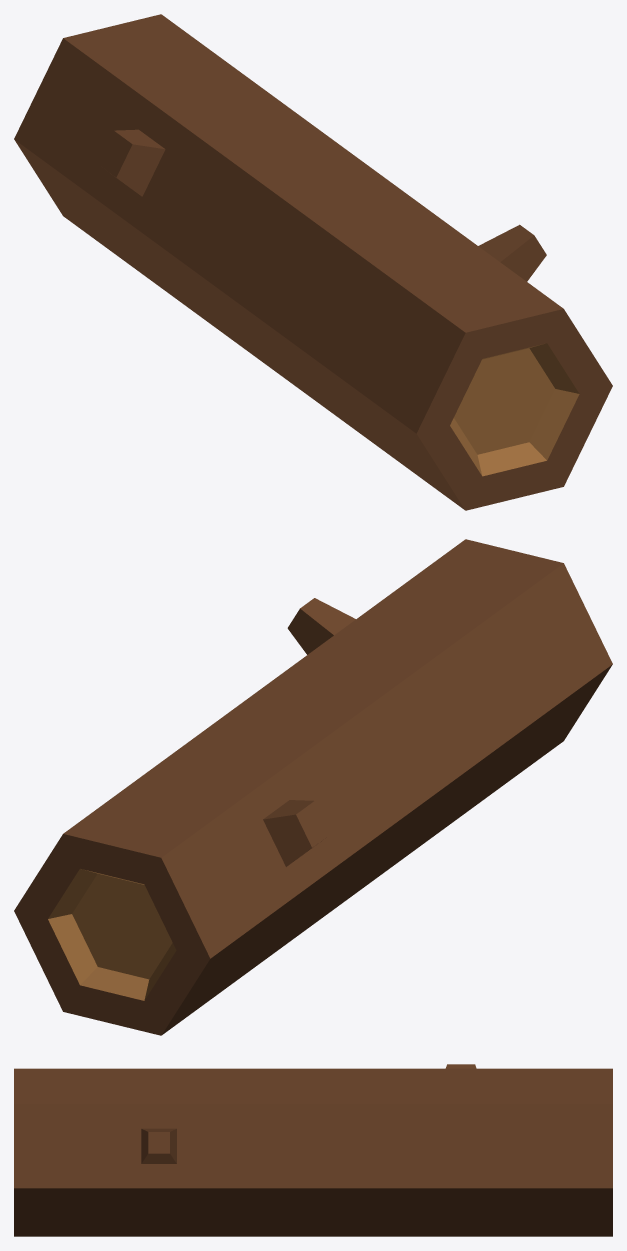
The model's file is log.glb.
3 renders of one model, top to bottom at view 1: azimuth 30°, elevation 25°; view 2: azimuth 150°, elevation 25°; view 3: azimuth 270°, elevation 25°, orthographic. The views are drawn at different scales.
Parts seen in each view (by area): view 1: log; view 2: log; view 3: log.
Boxes of the visible parts, x1,y1,x2,y2 form: log: [14, 14, 612, 510]; log: [14, 539, 612, 1035]; log: [14, 1064, 612, 1236].
Bounding box in the file's own units: 0.234 × 0.1732 × 0.71.
